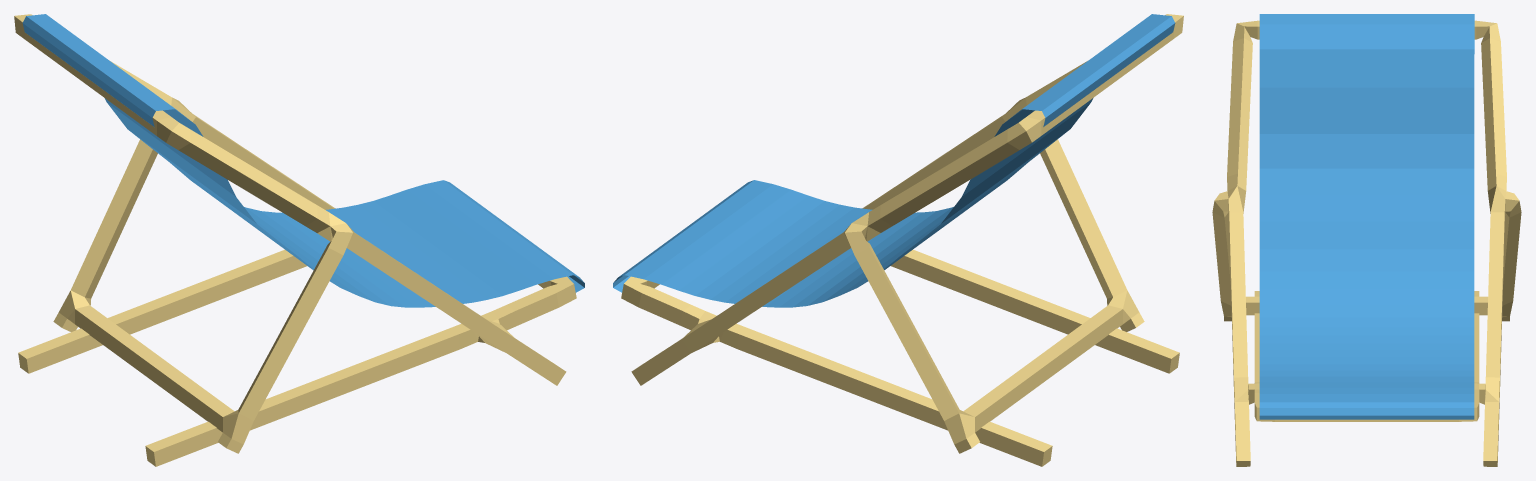
File: chair.glb
3 views of the same model, side by side, from view 1: azimuth 30°, elevation 25°; view 2: azimuth 150°, elevation 25°; view 3: azimuth 270°, elevation 25° (orthographic). The views are drawn at different scales.
Parts seen in each view (by area): view 1: Vert, Plane; view 2: Vert, Plane; view 3: Plane, Vert.
Part boxes in pixels (x1,y1,x2,y2): Vert: (14,14,576,466); Plane: (22,14,584,307); Vert: (621,14,1183,466); Plane: (613,14,1175,307); Plane: (1259,14,1474,419); Vert: (1212,20,1521,466).
Bounding box in the file's own units: 5.72 × 4.52 × 4.27.
